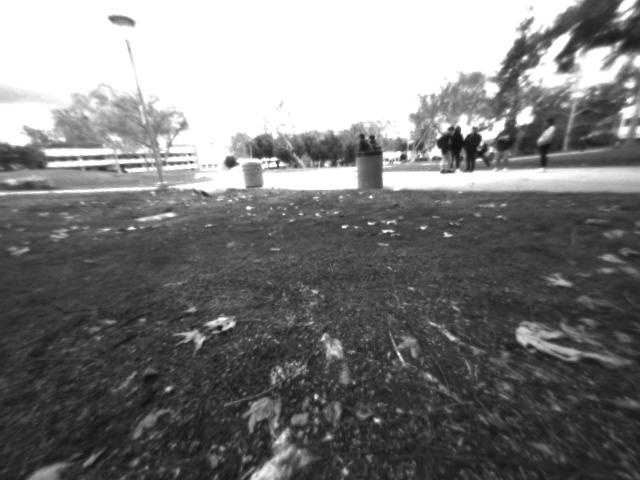trashcan: (353, 151, 386, 191), (240, 161, 268, 188)
